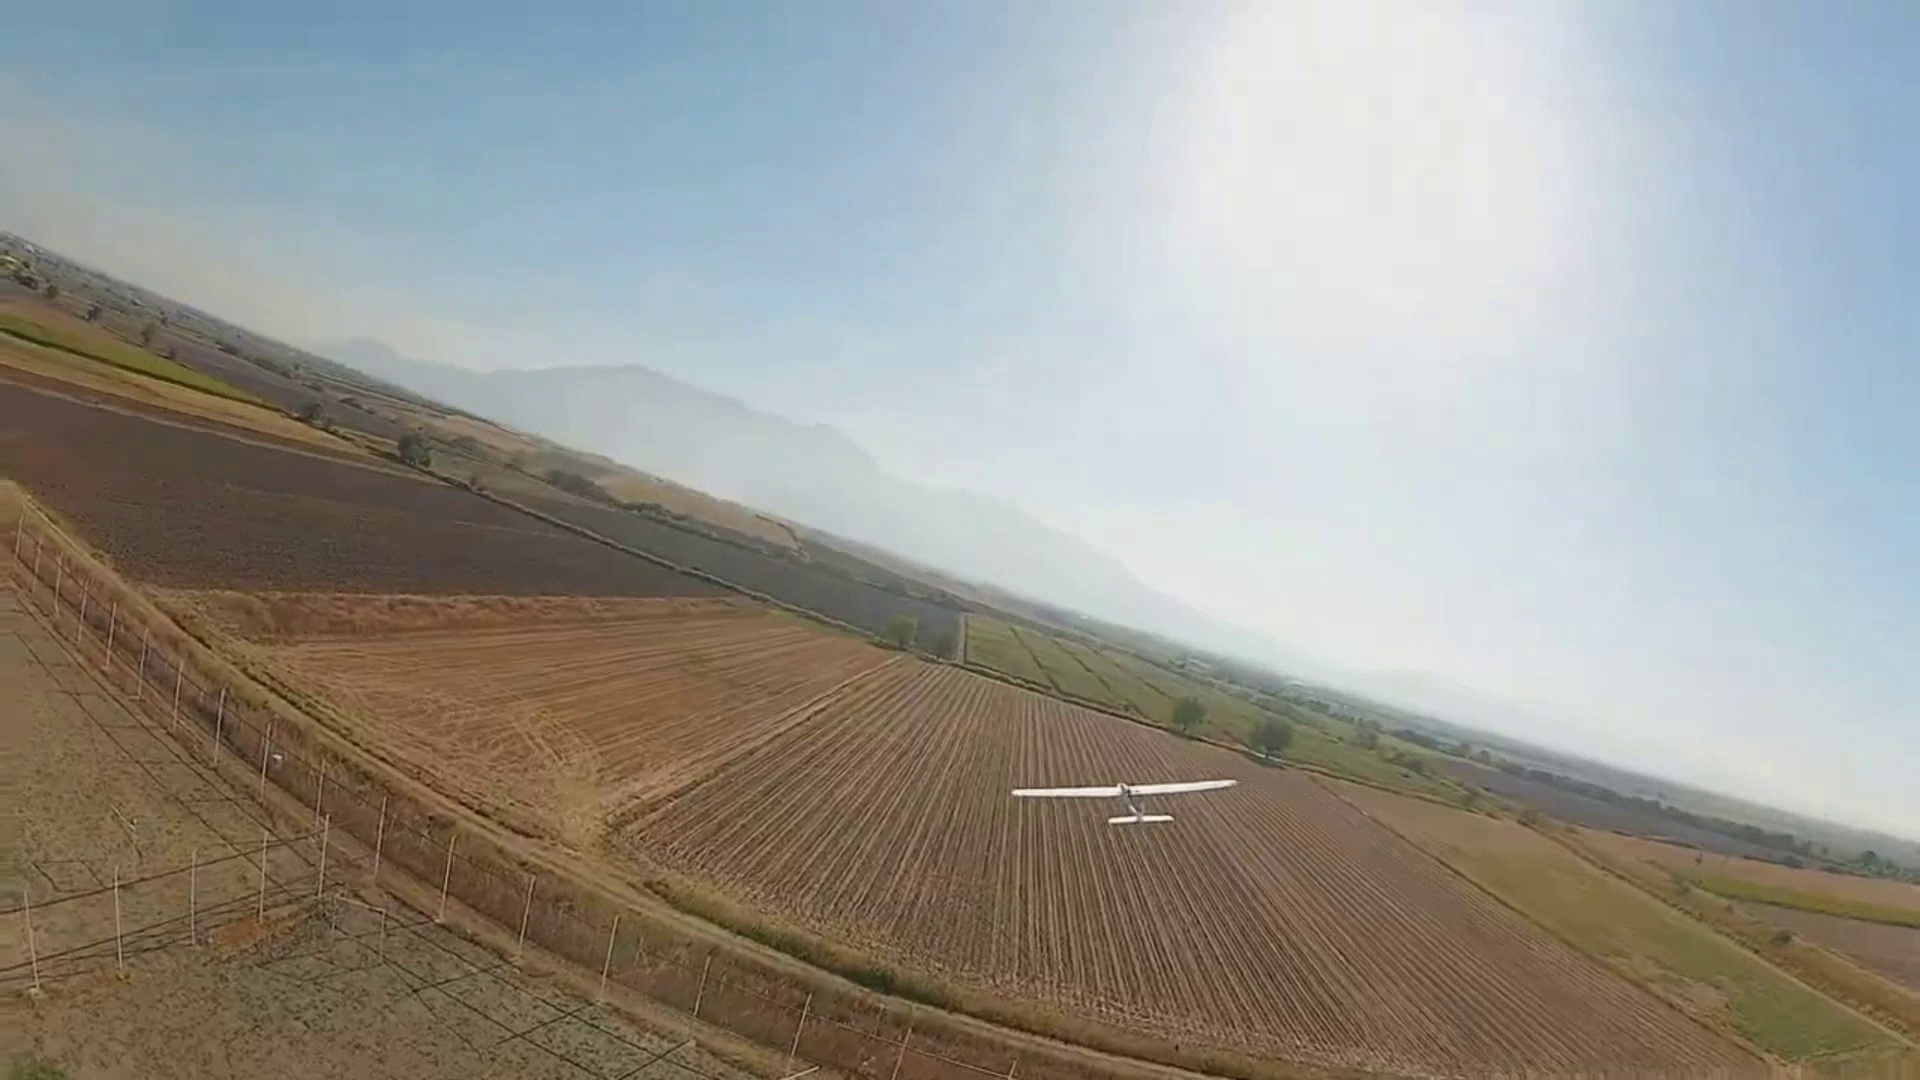airplane: (0, 229, 1913, 889)
